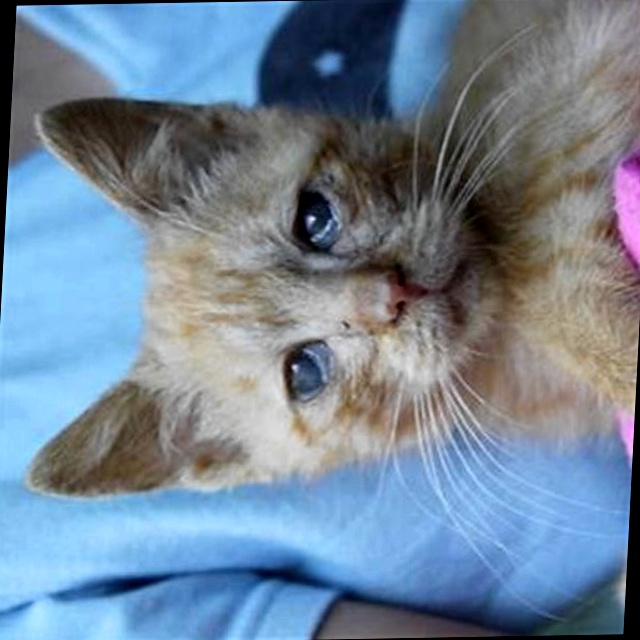eye_infection: (286, 171, 346, 253), (274, 341, 335, 410)
